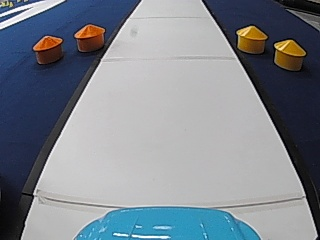granary: (271, 37, 307, 70), (234, 23, 269, 54), (72, 21, 106, 52), (31, 33, 62, 64)
